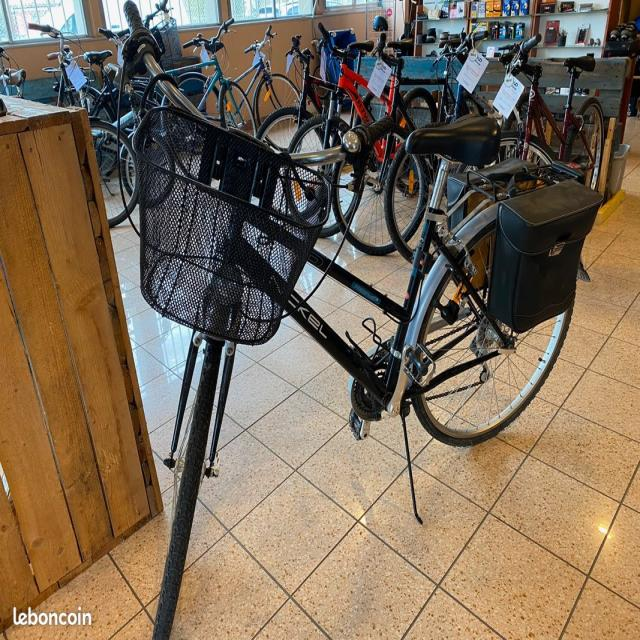Bike: (122, 0, 600, 639)
